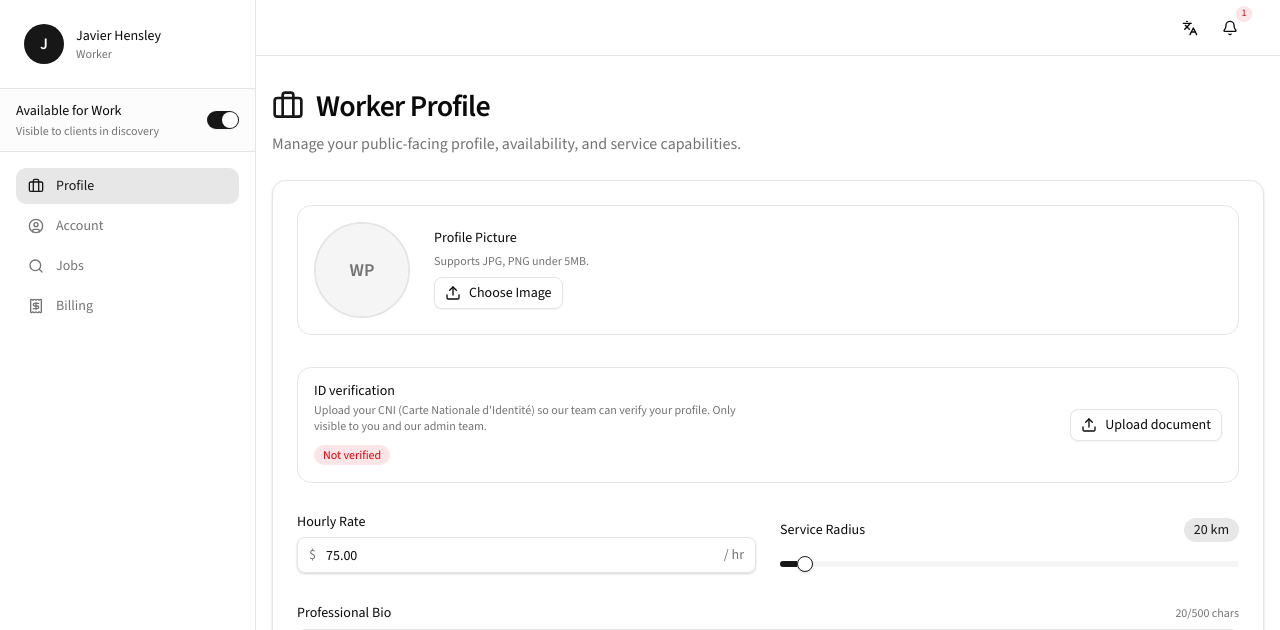
Test case: Job Lifecycle Workflow - POM Style › Notifications during the job lifecycle › Worker — sees a notification on their own dashboard › shows an unread badge -- the worker dashboard previously had no bell at all
Click the button named "Notifications": x=1230, y=28 [1212, 10, 1248, 46]
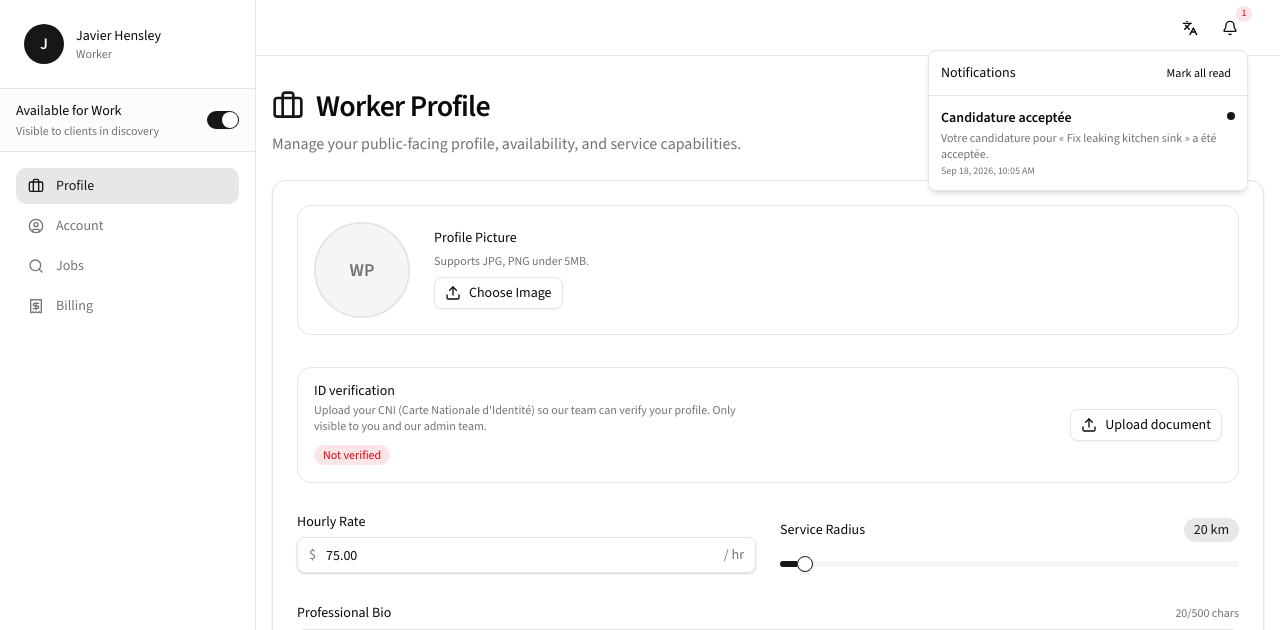
Result: the menu item "Candidature acceptée" is shown at [941, 108, 1072, 127]
